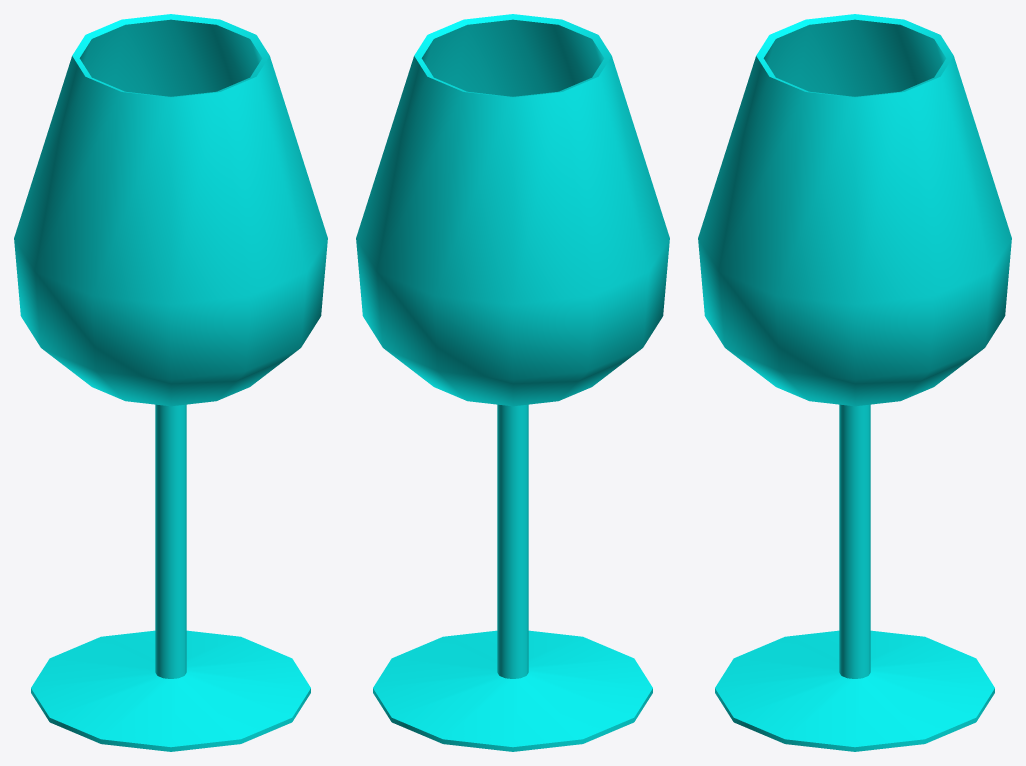
The model's file is Wine_Cup.fbx.
3 renders of one model, left to right at view 1: azimuth 30°, elevation 25°; view 2: azimuth 150°, elevation 25°; view 3: azimuth 270°, elevation 25°, orthographic.
Visible parts, largest first — view 1: Cup; view 2: Cup; view 3: Cup.
Boxes of the visible parts, <box> form: Cup: <box>14,14,327,751</box>; Cup: <box>356,14,669,751</box>; Cup: <box>698,14,1011,751</box>.
Bounding box in the file's own units: 8.96 × 20.07 × 8.96.
